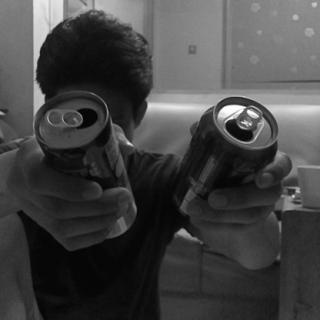alumunium_can: (34, 91, 138, 240), (170, 96, 280, 223)
